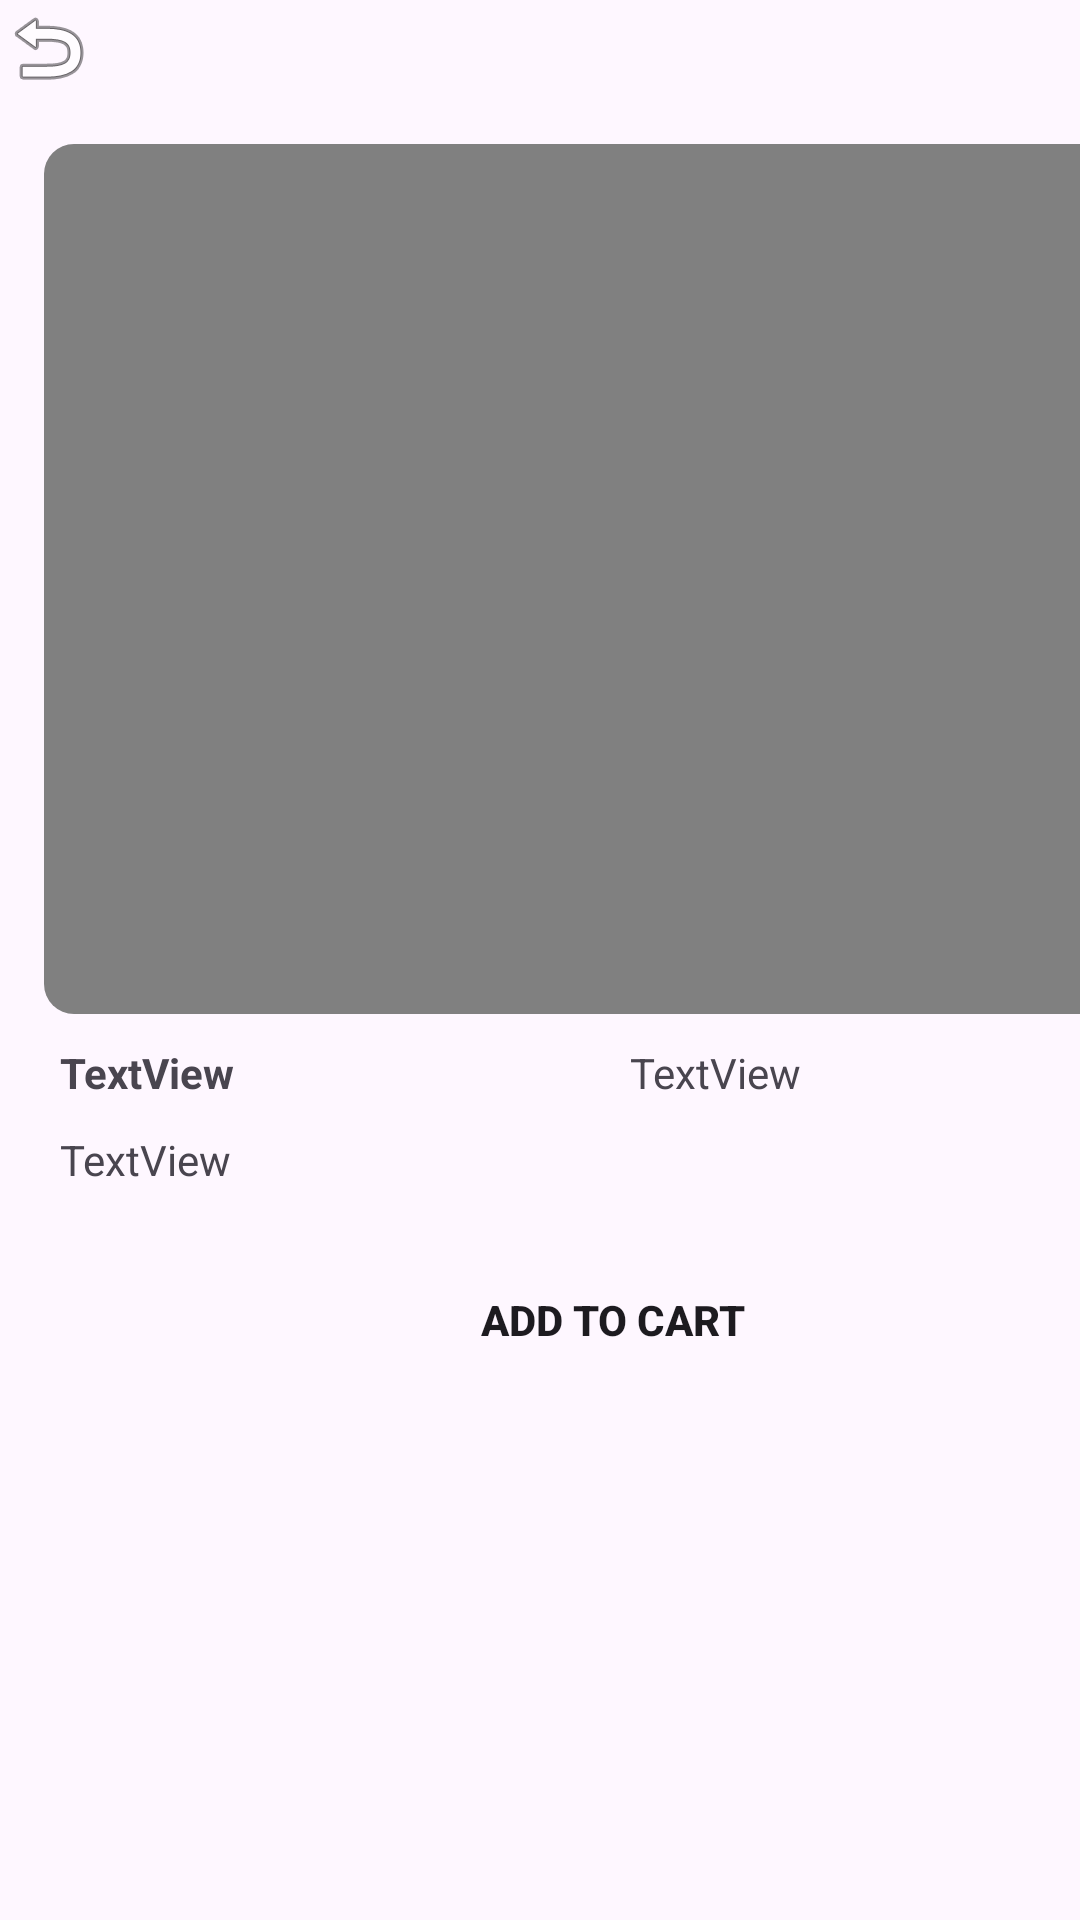

Icons on this 1080px×1920px Android screen, each with the point to tap as [x,y]:
revert: [49,48]
